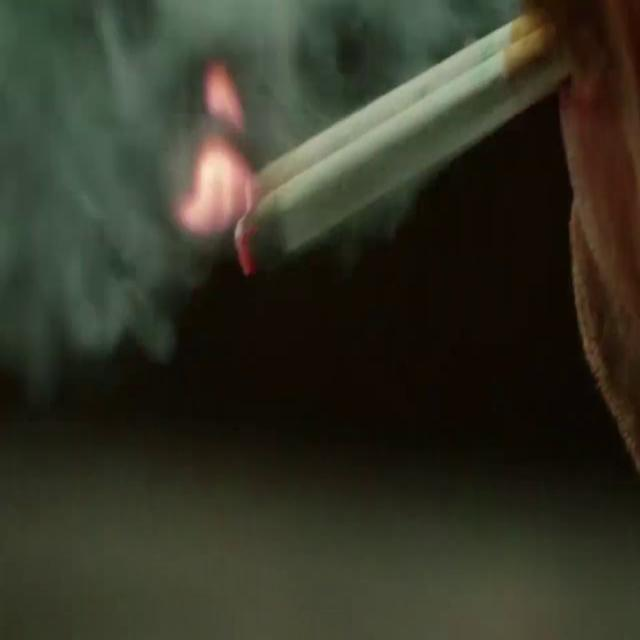Smooking: (222, 2, 609, 285)
